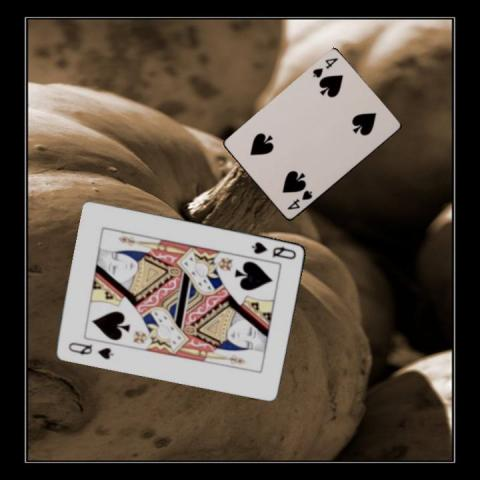4s: (284, 188, 314, 212), (310, 56, 340, 80)
Qs: (249, 238, 298, 260), (65, 338, 114, 360)
